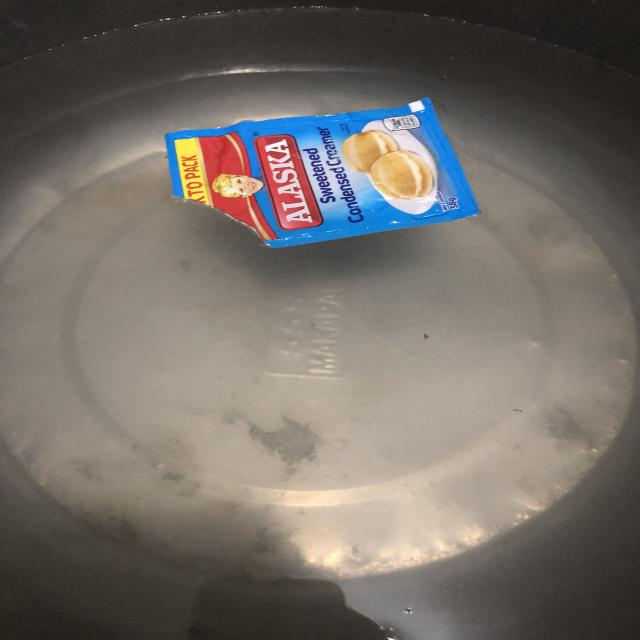Plastic Wrapper: (166, 102, 480, 251)
